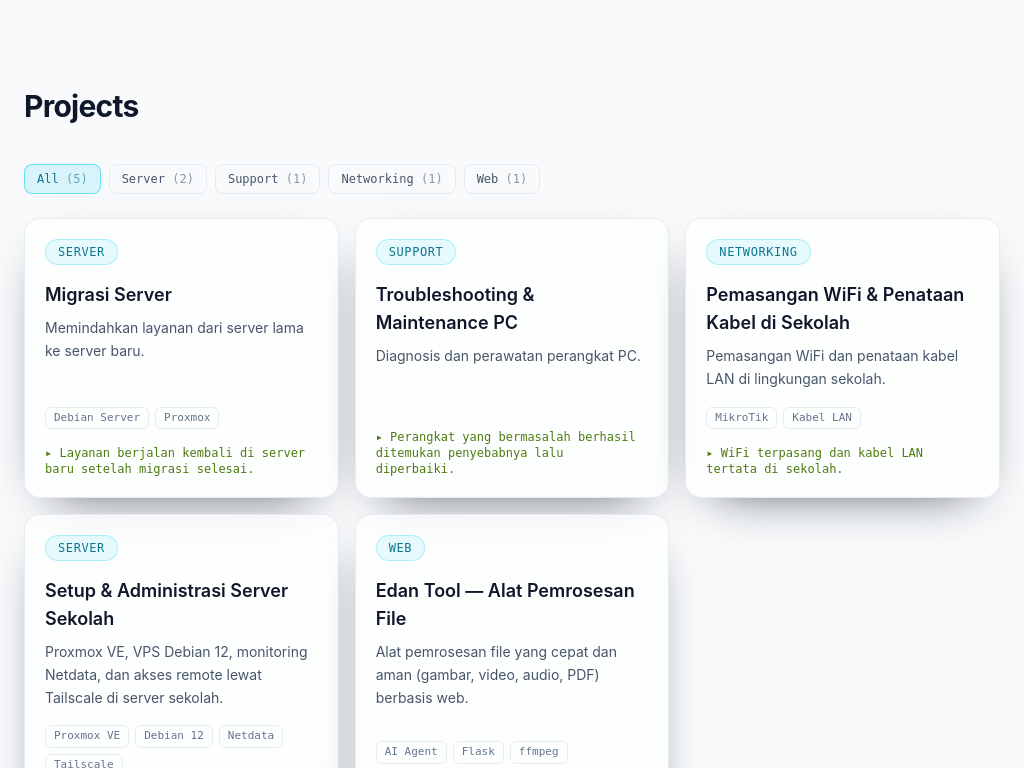
Scenario: Projects › closes when the backdrop is clicked
Click the button "Migrasi Server": (81, 252) [24,218,339,498]
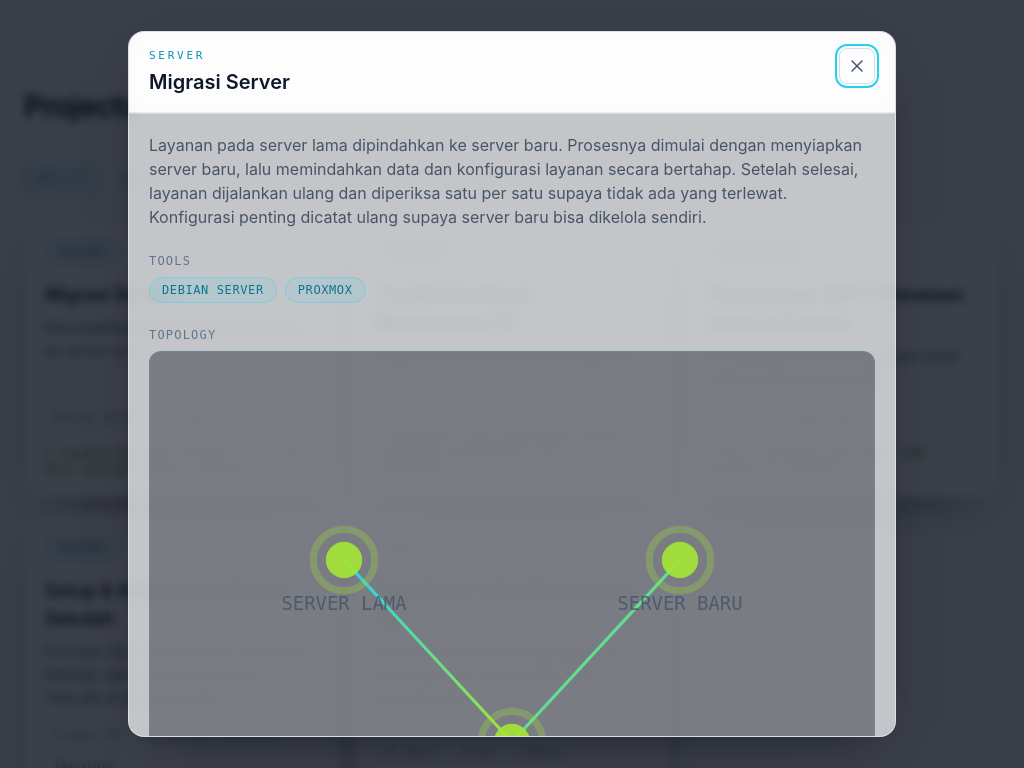
Result: the dialog is shown
Click the element with test id "modal-backdrop": (61, 384) [0,0,1023,767]
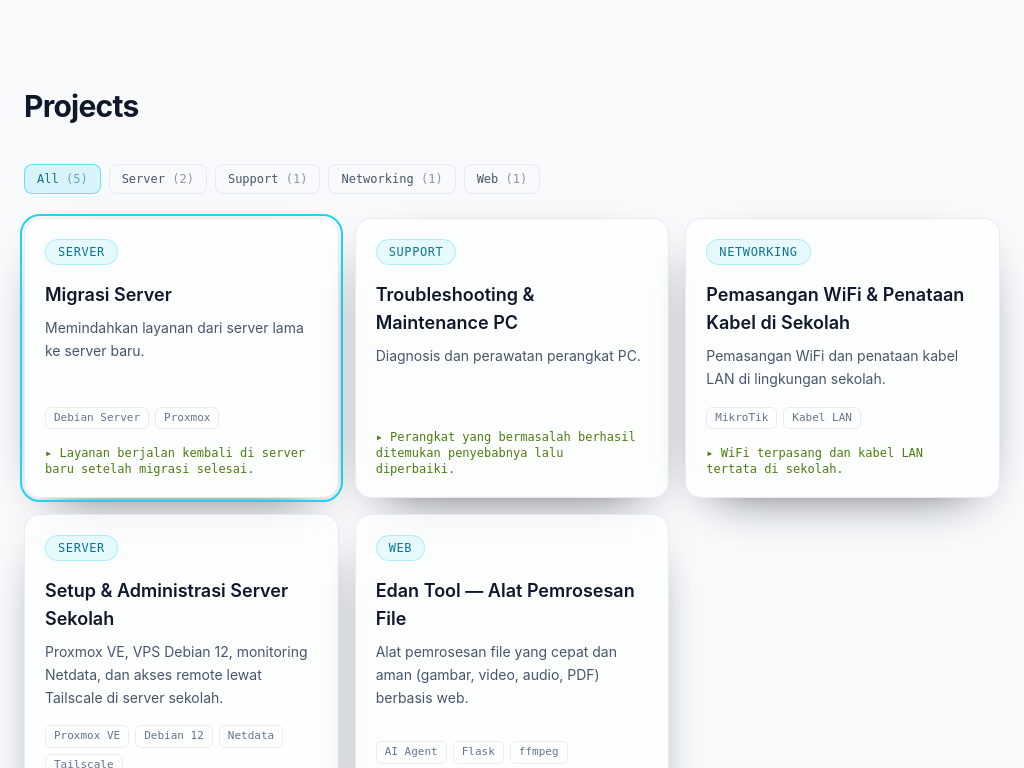
Result: the dialog is gone
